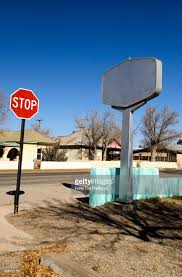Stop: (12, 80, 41, 128)
